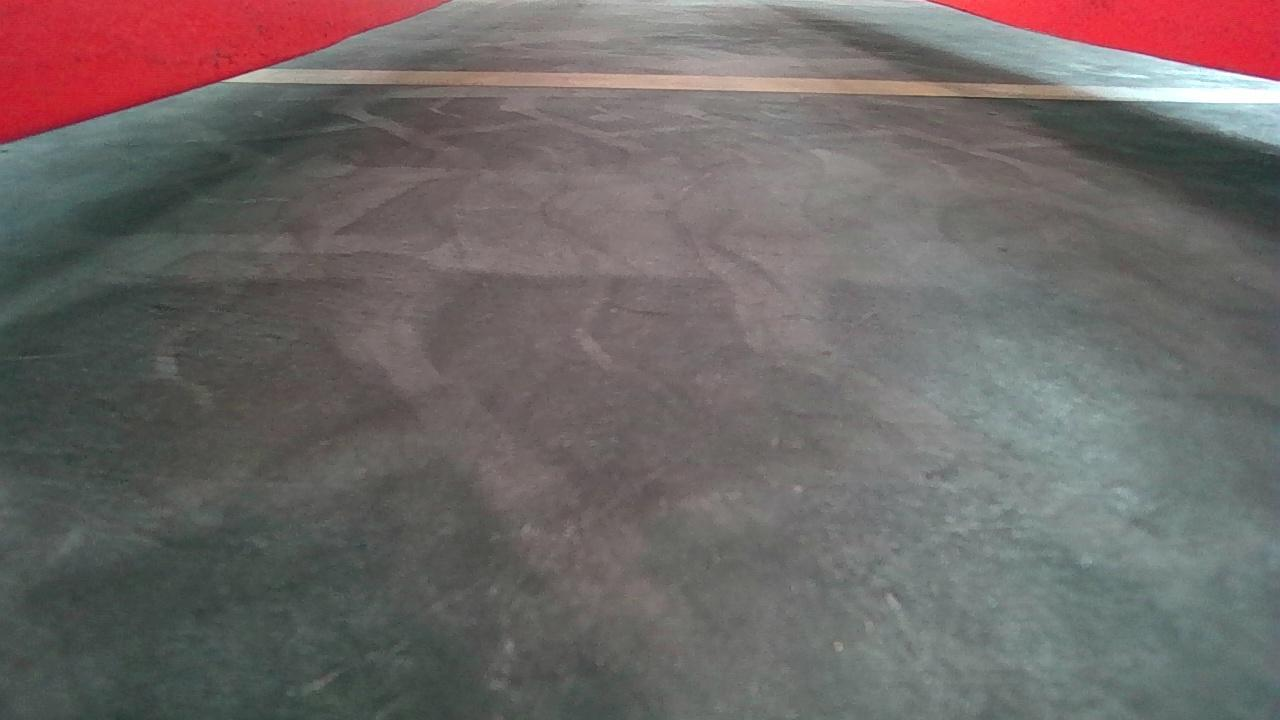yellow_line: (224, 65, 1276, 102)
